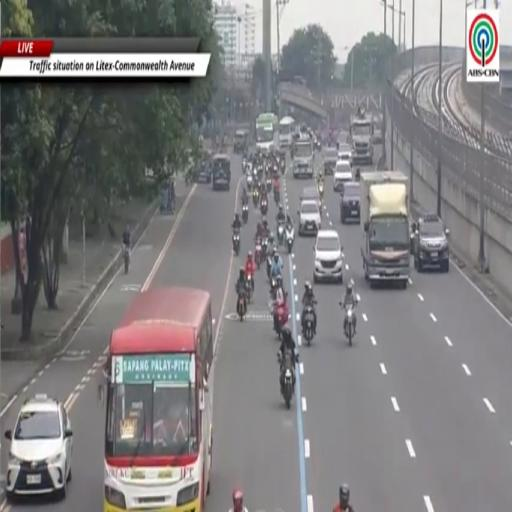bus: (104, 287, 213, 511), (279, 117, 295, 149)
car: (5, 395, 73, 501), (411, 214, 449, 271), (314, 230, 342, 282), (340, 182, 360, 223), (298, 200, 321, 235), (212, 154, 230, 190), (333, 160, 353, 191), (300, 186, 321, 207), (324, 148, 337, 175), (337, 143, 351, 165)
motorcycle: (279, 355, 294, 409), (274, 301, 288, 339), (303, 304, 314, 345), (344, 307, 354, 346), (271, 276, 284, 300), (237, 291, 247, 322), (286, 226, 294, 254), (123, 245, 130, 274), (246, 276, 253, 303), (255, 239, 261, 269), (233, 230, 240, 255), (261, 237, 268, 262), (266, 254, 272, 281), (277, 222, 284, 245), (242, 204, 248, 223), (246, 173, 253, 189), (261, 197, 267, 215), (253, 189, 259, 207), (271, 278, 276, 299), (266, 177, 272, 193), (318, 182, 323, 201), (274, 187, 279, 204), (280, 158, 285, 174), (242, 158, 247, 171)
truck: (360, 171, 410, 289), (350, 112, 374, 166), (255, 114, 278, 154), (292, 137, 314, 178)
